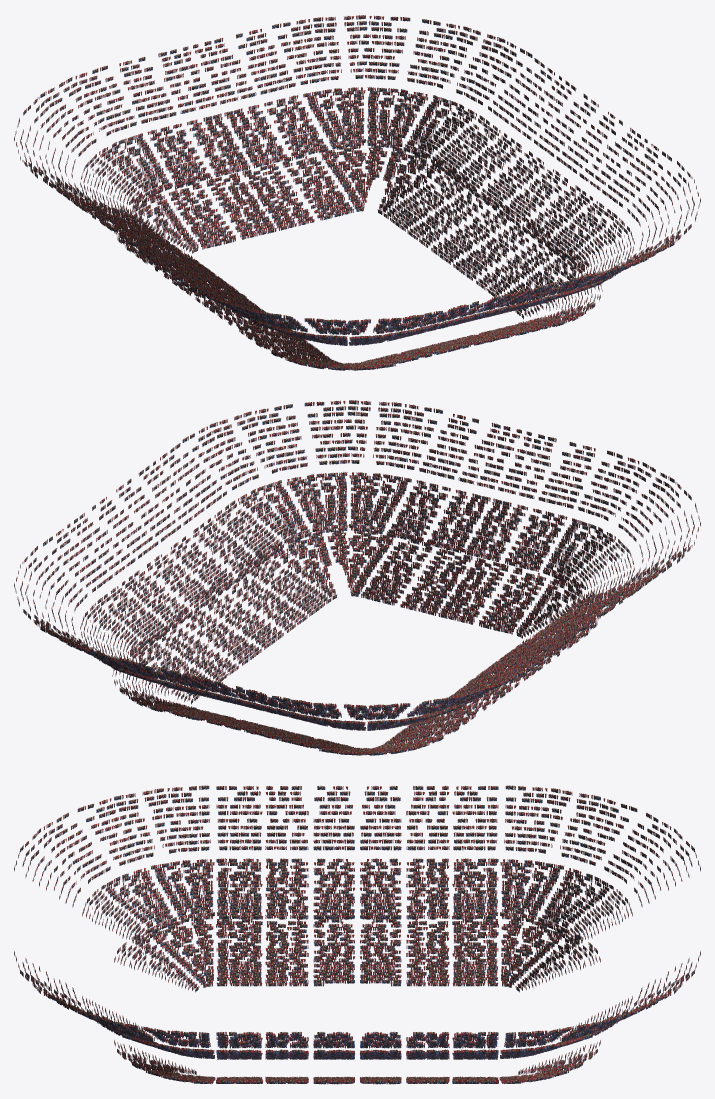
The model's file is st_061_people.fbx.
3 renders of one model, top to bottom at view 1: azimuth 30°, elevation 25°; view 2: azimuth 150°, elevation 25°; view 3: azimuth 270°, elevation 25°, orthographic. The views are drawn at different scales.
Parts seen in each view (by area): view 1: st_061_People; view 2: st_061_People; view 3: st_061_People.
Part boxes in pixels (left/top/right/bottom): st_061_People: left=14, top=15, right=700, bottom=370; st_061_People: left=14, top=400, right=700, bottom=755; st_061_People: left=14, top=785, right=700, bottom=1084.
Bounding box in the file's own units: 216 × 51.18 × 254.
